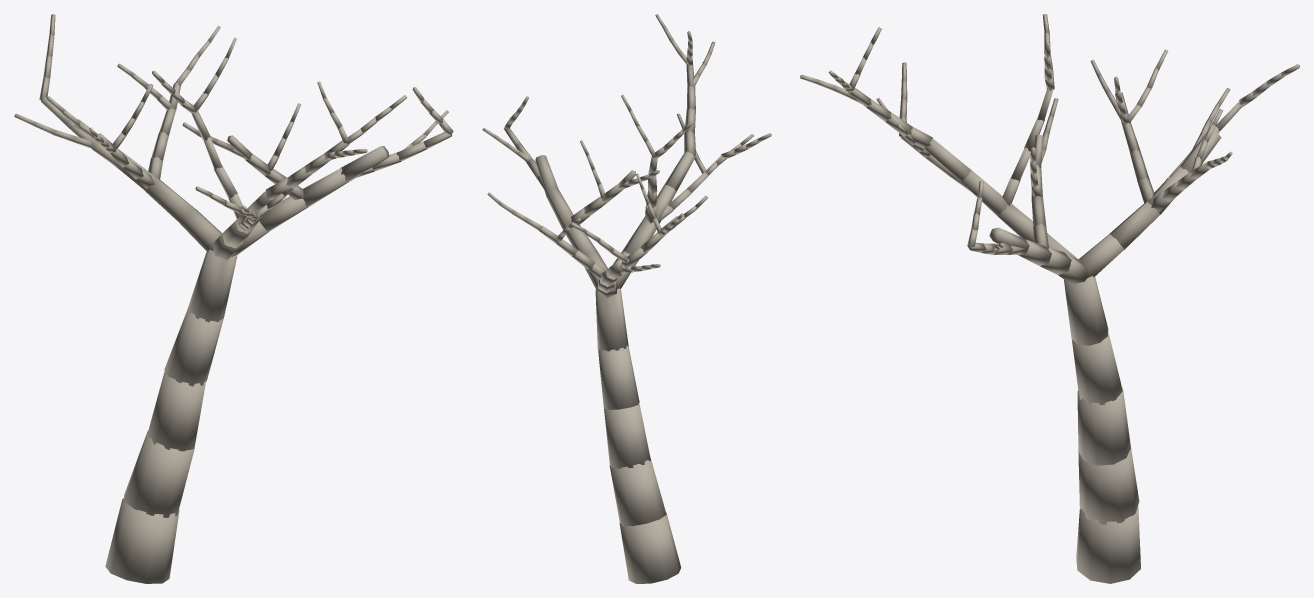
Rendered from tree_dead_b.glb.
3 renders of one model, left to right at view 1: azimuth 30°, elevation 25°; view 2: azimuth 150°, elevation 25°; view 3: azimuth 270°, elevation 25°, orthographic. The views are drawn at different scales.
Parts seen in each view (by area): view 1: tree_dead_b; view 2: tree_dead_b; view 3: tree_dead_b.
Boxes of the visible parts, x1,y1,x2,y2 form: tree_dead_b: (14,14,453,583); tree_dead_b: (482,14,771,583); tree_dead_b: (800,14,1299,583).
Bounding box in the file's own units: 3.44 × 5.7 × 4.47.
